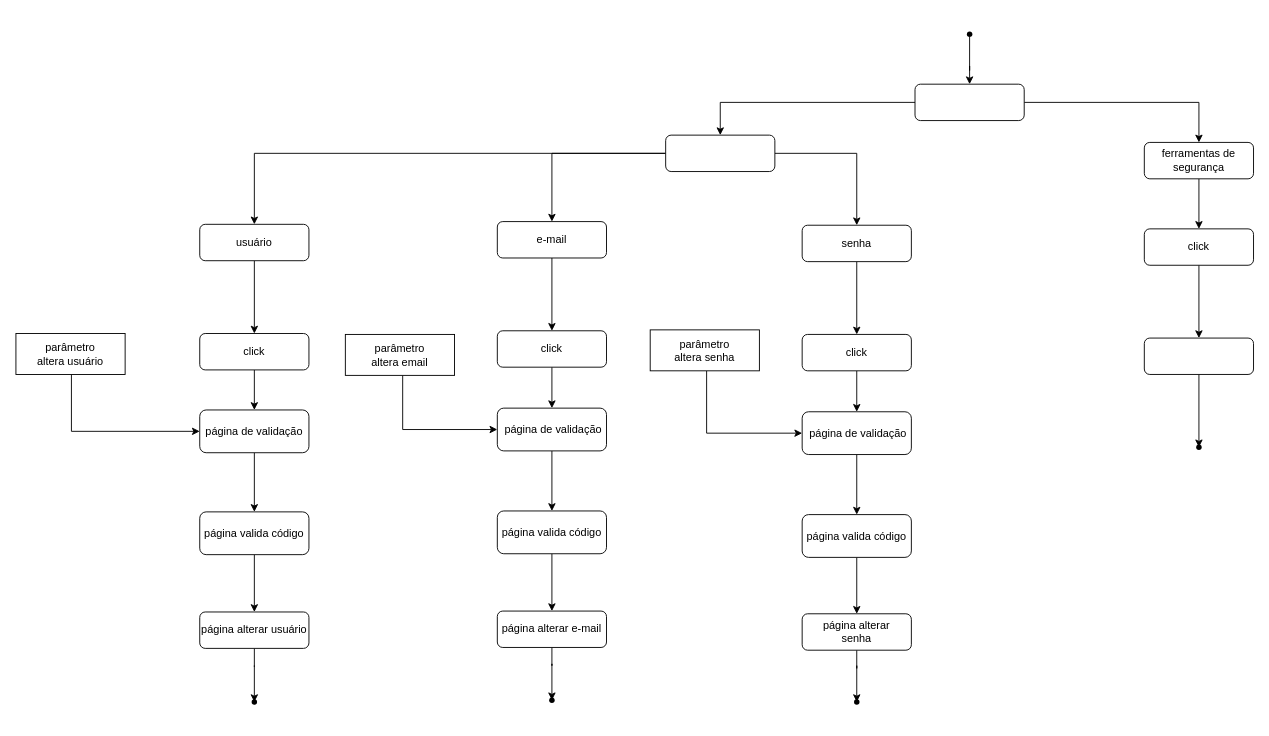
This 1269x736 diagram has some shape labels left out. The centre of each missing label's shape, as x and y in pixels:
"acesso à conta" belongs at point (720, 153).
"página / menu segurança" belongs at point (969, 102).
"página dispositivos vinculados" belongs at point (1198, 355).
